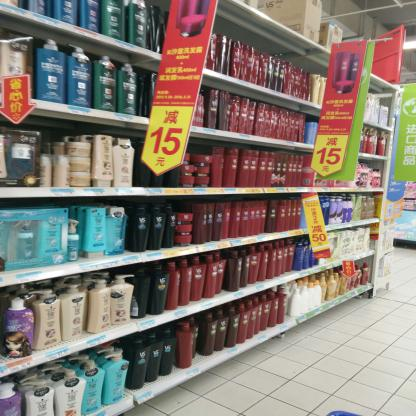Void: (134, 170, 152, 189), (194, 138, 212, 155)
